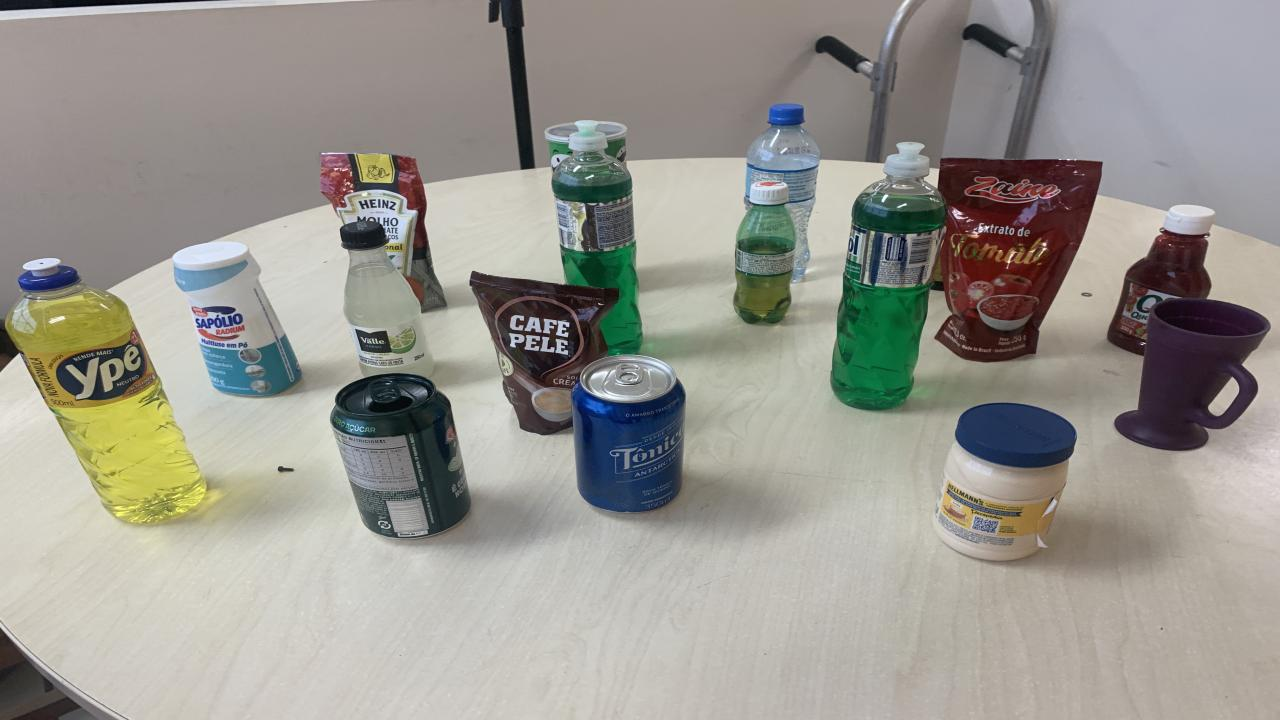Cleaner-Cleanup_Items: (172, 242, 302, 396)
Coffee-Pantry_Items: (470, 272, 618, 435)
Detergent-Cleanup_Items: (8, 259, 205, 523), (830, 144, 948, 411), (552, 122, 642, 352)
Guarana-Drinks: (735, 182, 795, 322)
Guarana_Can-Drinks: (330, 373, 470, 538)
Ketchup-Pantry_Items: (1108, 204, 1215, 354)
Mayonnaise-Pantry_Items: (932, 403, 1075, 561)
Pringles-Snacks: (545, 122, 578, 167), (598, 122, 628, 163)
Soda-Drinks: (340, 219, 432, 377)
Tomato_Sauce-Pantry_Items: (935, 158, 1102, 362), (320, 152, 448, 311)
Tonic-Drinks: (570, 354, 685, 512)
Water_Bottle-Drinks: (745, 103, 820, 281)
